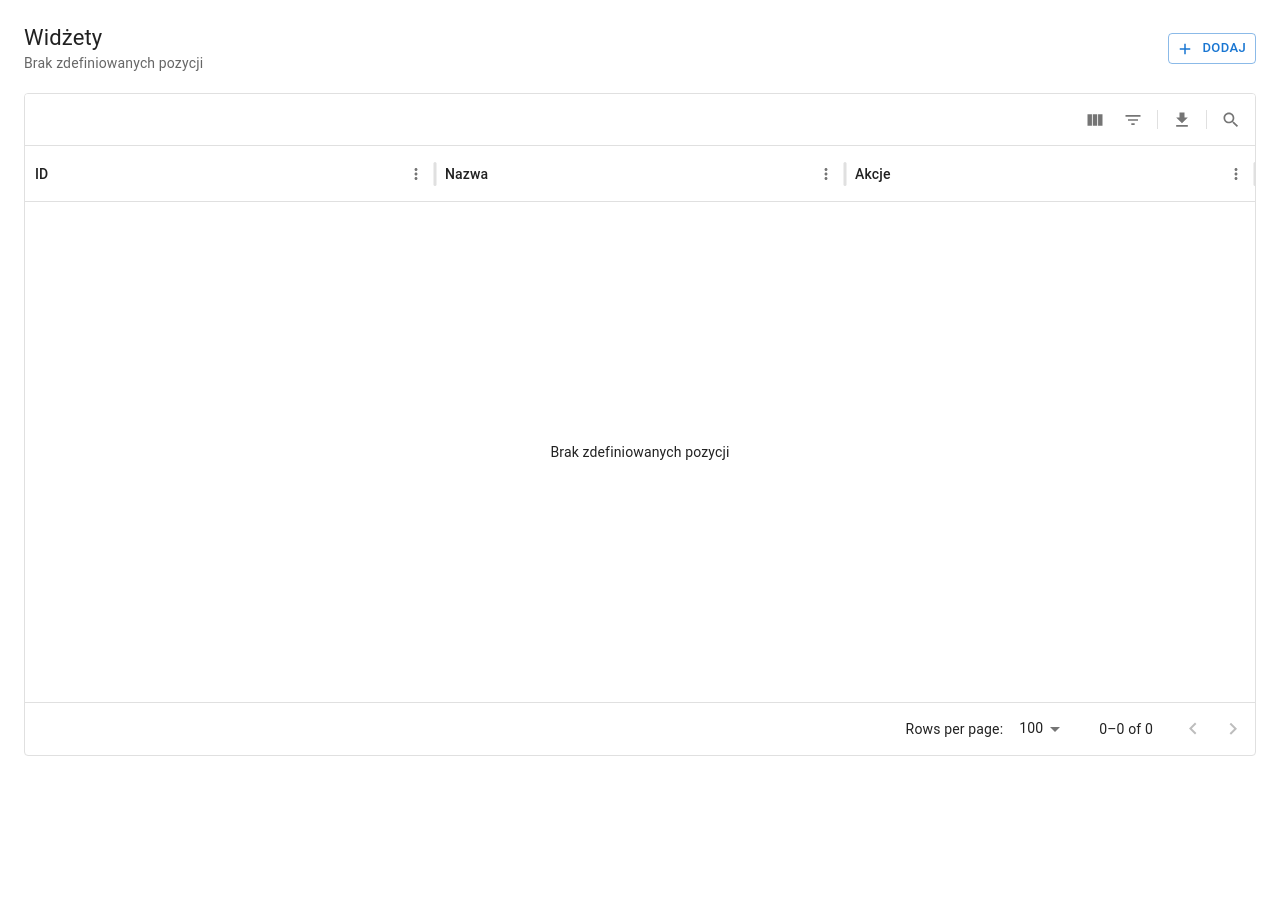
Test case: SimpleCrudPage › shows the API error instead of silently closing the dialog on failure
Step 1. Click the button "Dodaj" → (1212, 49), box [1168,33,1256,64]
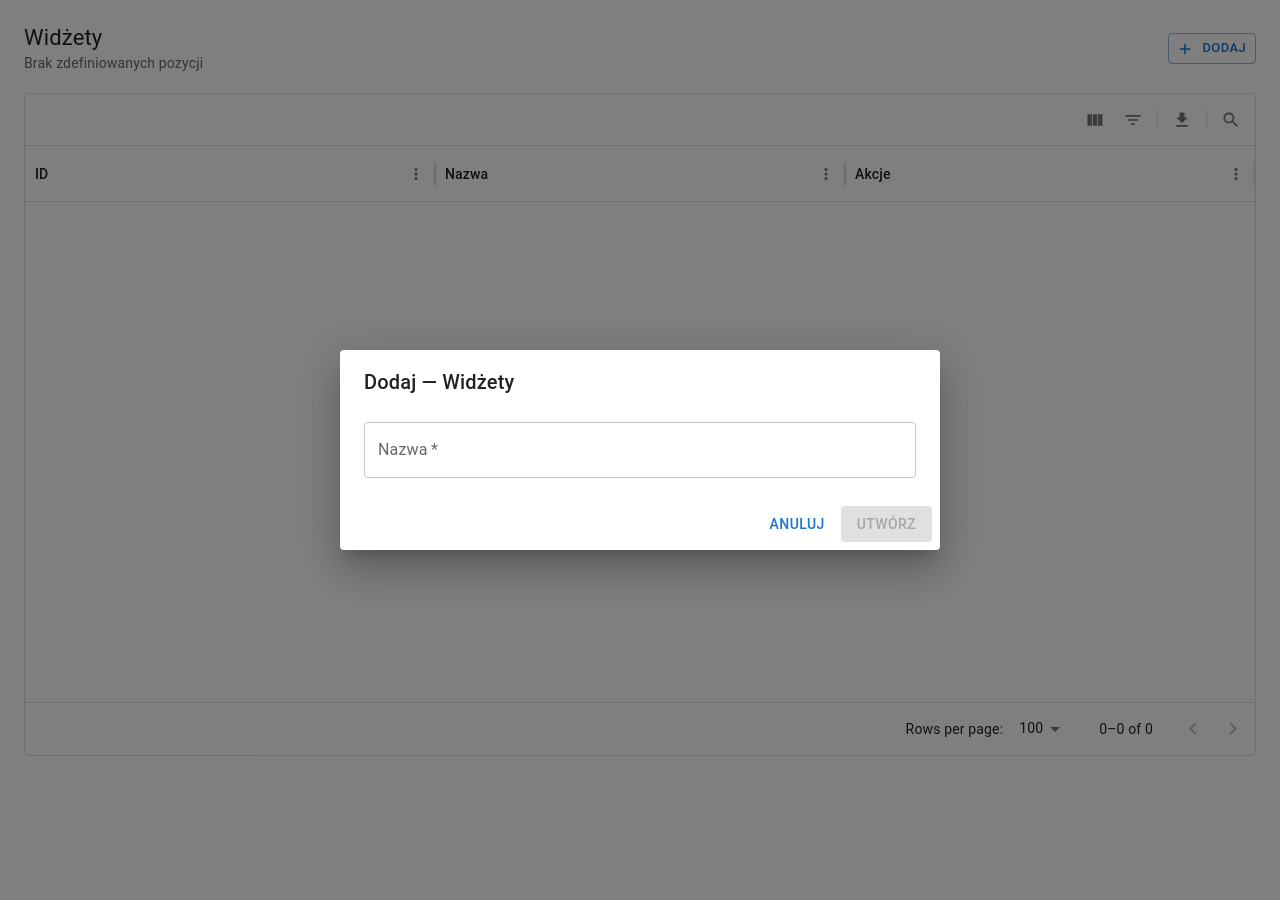
Step 2. Type "Cokolwiek" into the field labelled "Nazwa *" → (640, 450), box [364,422,916,478]
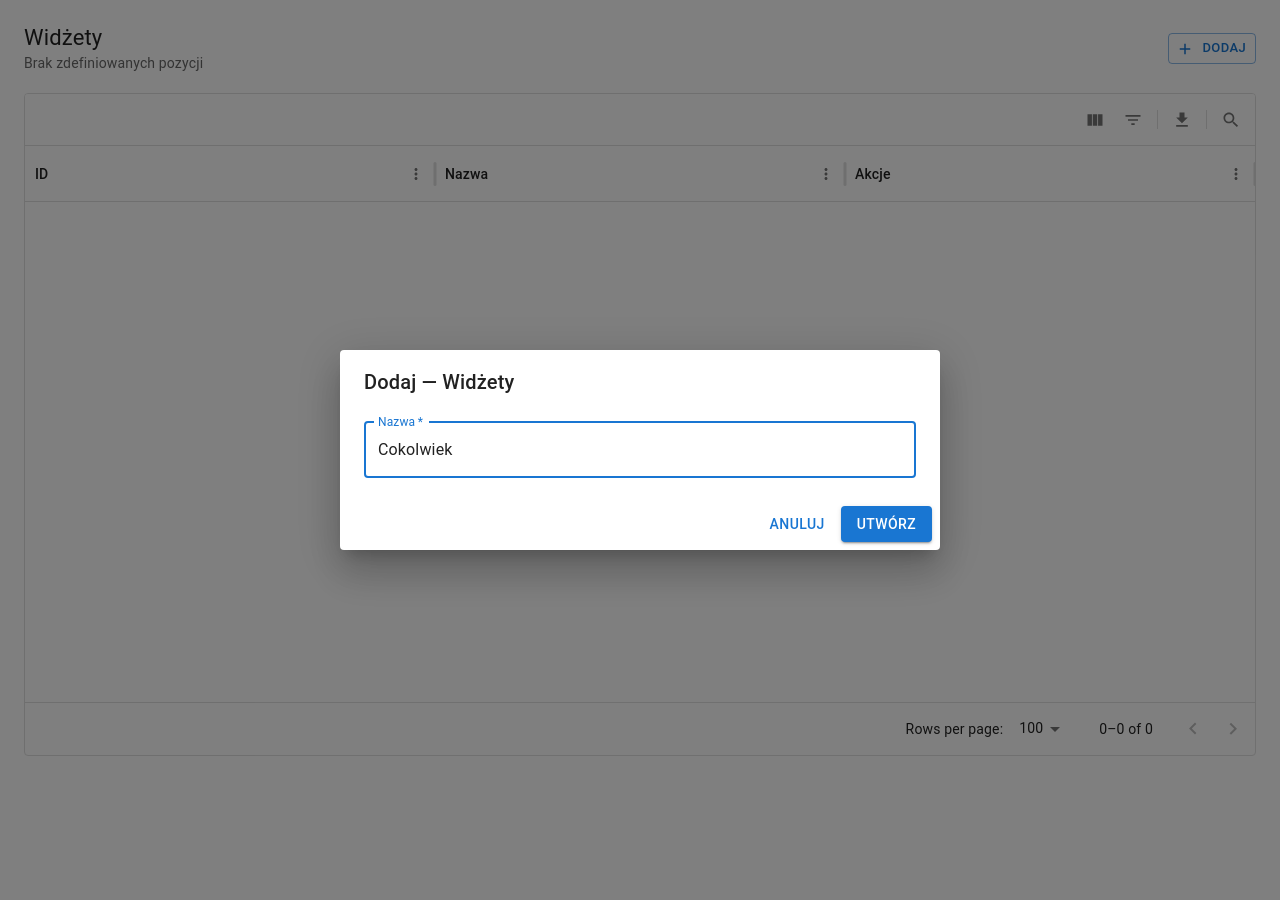
Step 3. Click the button "Utwórz" → (886, 524), box [841,506,932,542]
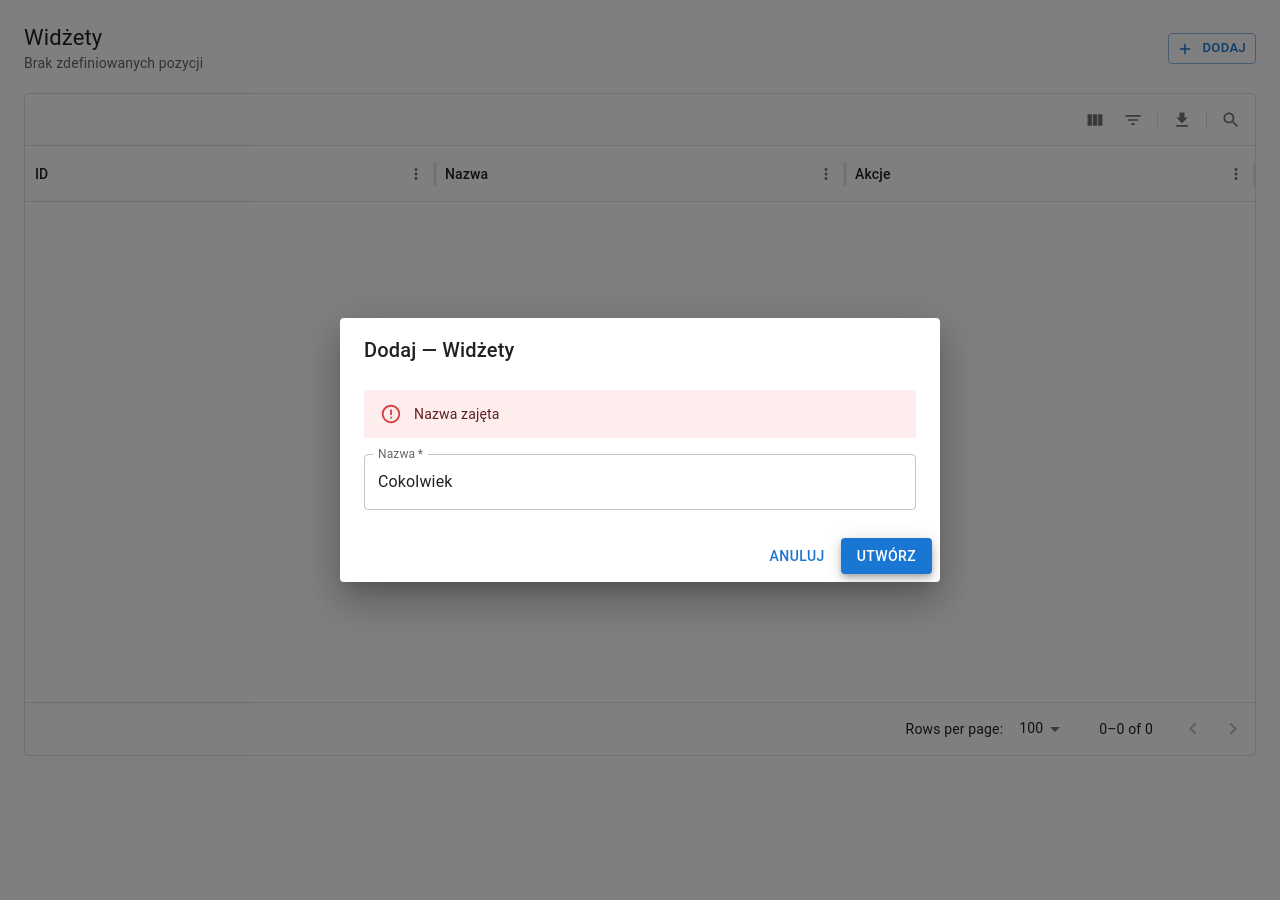
expect the text "Nazwa zajęta" is shown: met, box [414,406,500,422]
